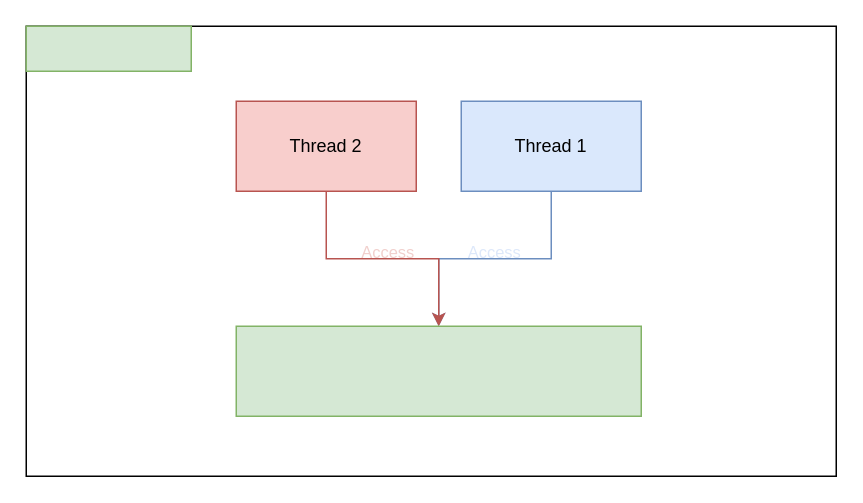
Some shapes in this 863 by 503 pixel diagram are drawn without their labels. Here are the shapes that lost their labels. From the top down, the centre of each, then its label:
At point (108, 48): "Race Condition".
At point (438, 370): "Source".
